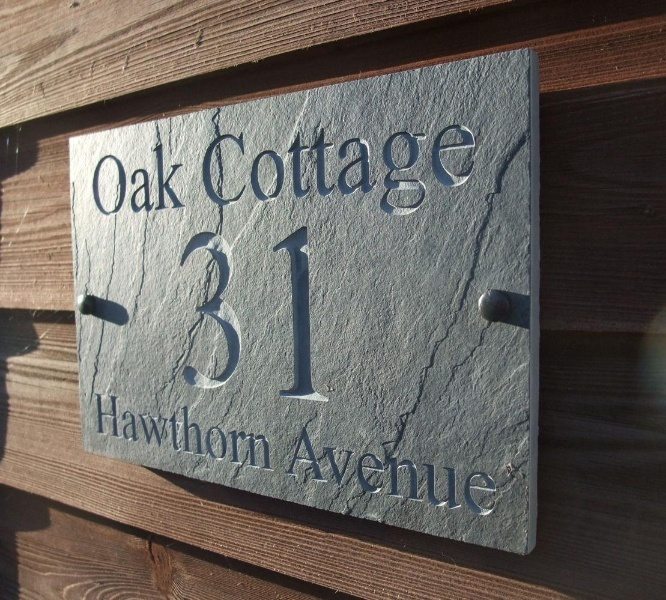text: (193, 226, 208, 404), (209, 226, 224, 404), (225, 226, 240, 404), (241, 226, 256, 404), (257, 226, 272, 404), (273, 226, 288, 404), (289, 226, 304, 404), (305, 226, 320, 404), (178, 226, 192, 404), (321, 226, 331, 404), (209, 104, 224, 217), (225, 104, 240, 217), (241, 104, 256, 217), (257, 104, 272, 217), (273, 104, 288, 217), (289, 104, 304, 217), (305, 104, 320, 217), (321, 104, 336, 217), (337, 104, 352, 217), (353, 104, 368, 217), (369, 104, 384, 217), (385, 104, 400, 217), (401, 104, 416, 217), (417, 104, 432, 217), (433, 104, 448, 217), (449, 104, 464, 217), (465, 104, 480, 217), (305, 423, 320, 522), (321, 423, 336, 522), (337, 423, 352, 522), (353, 423, 368, 522), (369, 423, 384, 522), (385, 423, 400, 522), (401, 423, 416, 522), (417, 423, 432, 522), (433, 423, 448, 522), (449, 423, 464, 522), (465, 423, 480, 522), (481, 423, 496, 522), (257, 391, 273, 472), (197, 104, 208, 217), (97, 391, 112, 472), (113, 391, 128, 472), (129, 391, 144, 472), (145, 391, 160, 472), (161, 391, 176, 472), (177, 391, 192, 472), (193, 391, 208, 472), (209, 391, 224, 472), (225, 391, 240, 472), (241, 391, 256, 472), (97, 140, 112, 217), (113, 140, 128, 217), (129, 140, 144, 217), (145, 140, 160, 217), (161, 140, 176, 217), (177, 140, 187, 217), (298, 423, 304, 522), (497, 423, 501, 522), (92, 140, 96, 217), (94, 391, 96, 472), (481, 104, 482, 217)
